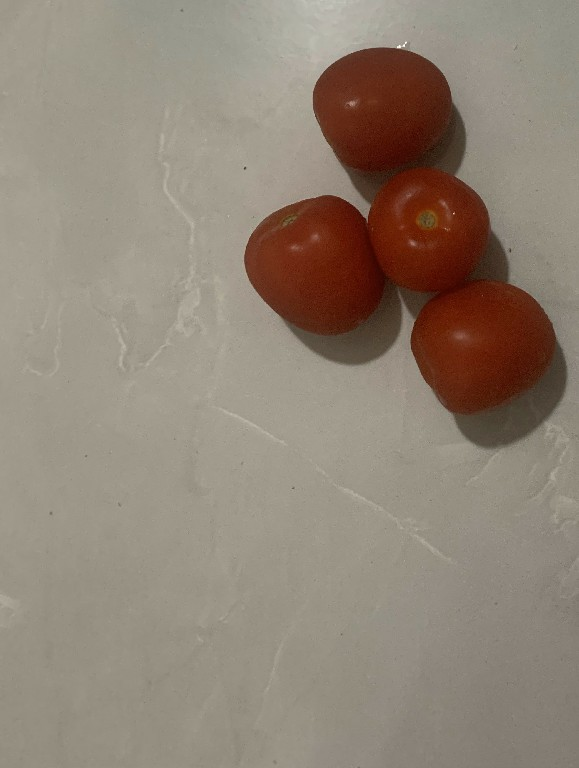OK: (311, 40, 456, 174), (412, 283, 560, 412), (239, 196, 378, 332), (367, 171, 497, 288)
